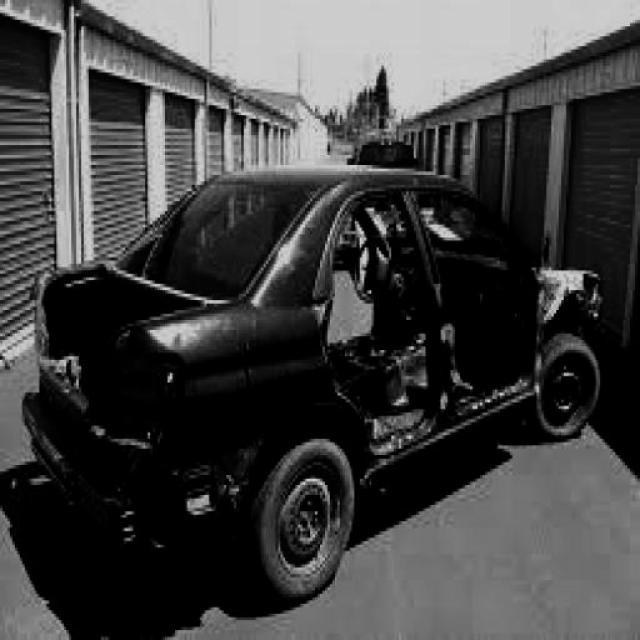car damage: (311, 187, 602, 460), (31, 275, 260, 541)
